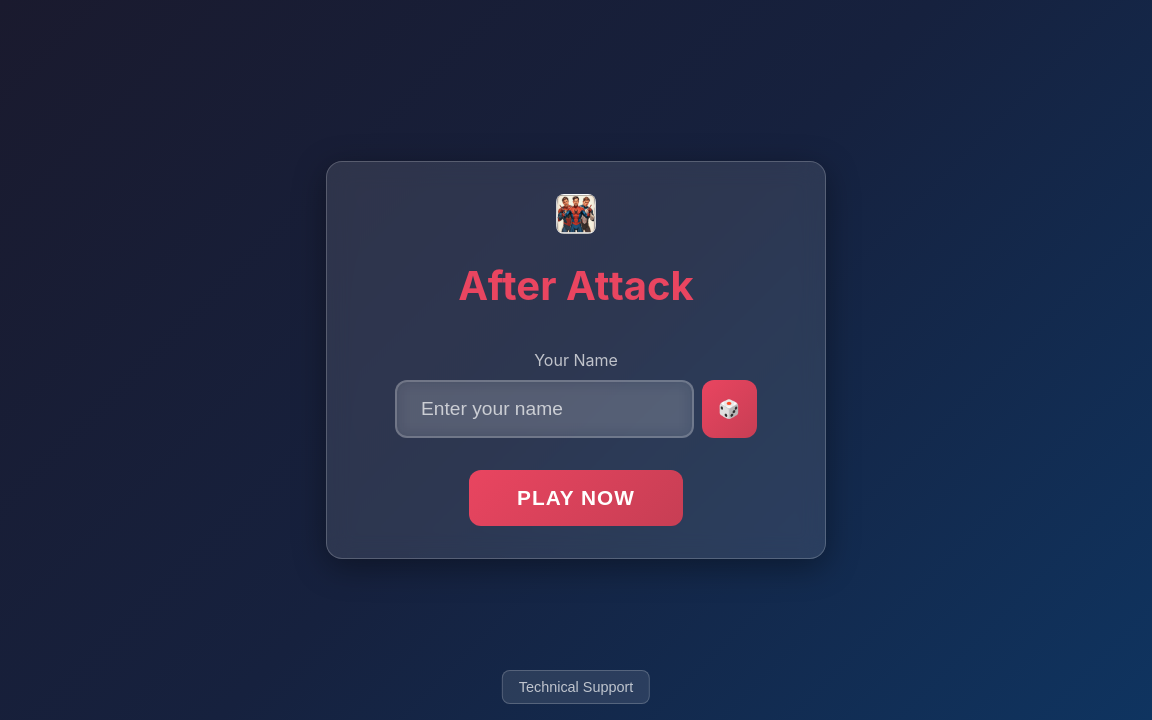
Scenario: LoginScreen › should show validation error for empty username
Step 1. Click the button "Play Now" → (576, 498), box [469,470,683,526]
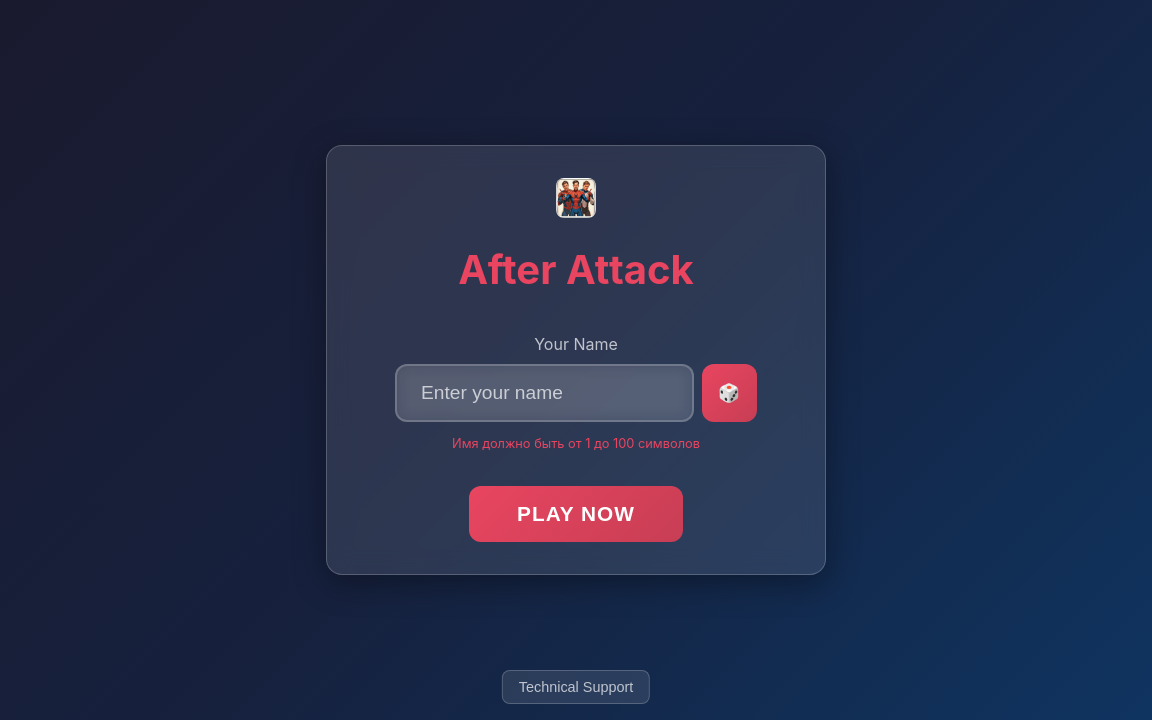
Check: the text "Имя должно быть от 1 до 100 символов" is shown, box [452,434,700,454]
